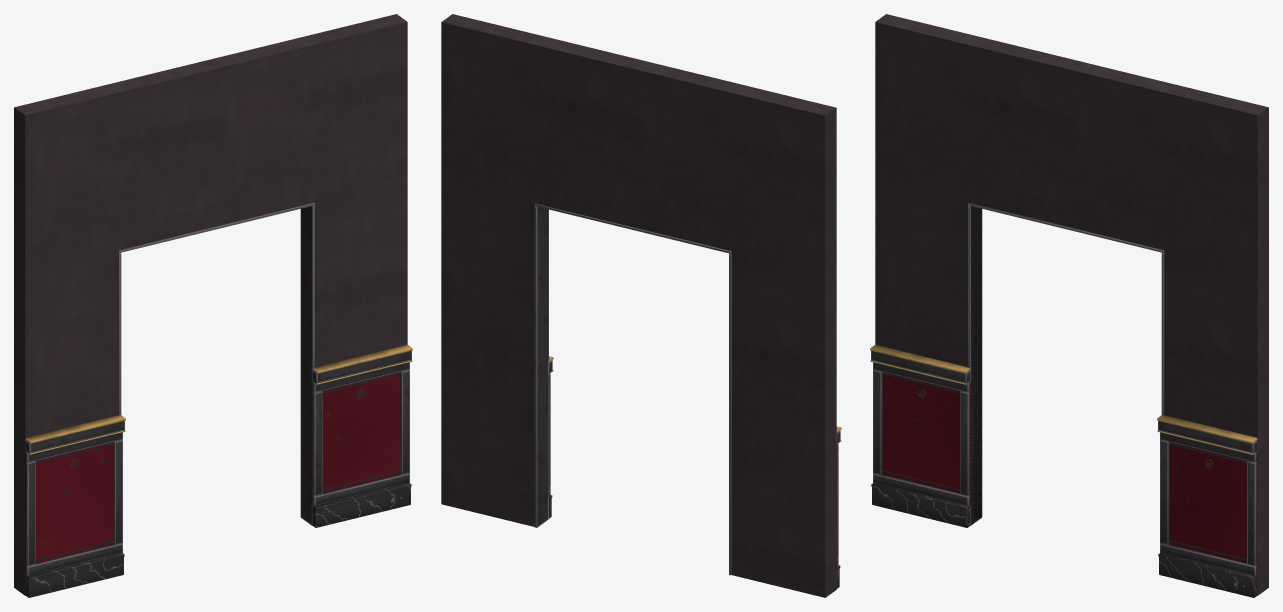
Rendered from DormWallDoor.fbx.
The picture shows the model from 3 angles, left to right: view 1: azimuth 30°, elevation 25°; view 2: azimuth 150°, elevation 25°; view 3: azimuth 330°, elevation 25°; orthographic projection.
Parts seen in each view (by area): view 1: DormWallDoor_Plaster, DormWallDoor_Main, DormWallDoor_Panel; view 2: DormWallDoor_Plaster, DormWallDoor_Main; view 3: DormWallDoor_Plaster, DormWallDoor_Main, DormWallDoor_Panel.
Boxes of the visible parts, x1,y1,x2,y2 form: DormWallDoor_Plaster: [14, 14, 407, 595]; DormWallDoor_Main: [25, 203, 412, 597]; DormWallDoor_Panel: [25, 372, 400, 575]; DormWallDoor_Plaster: [441, 14, 836, 597]; DormWallDoor_Main: [534, 203, 841, 588]; DormWallDoor_Plaster: [875, 14, 1268, 595]; DormWallDoor_Main: [870, 203, 1257, 597]; DormWallDoor_Panel: [882, 372, 1257, 575].
Size of the model in its own units: 1000 by 1200 by 77.
